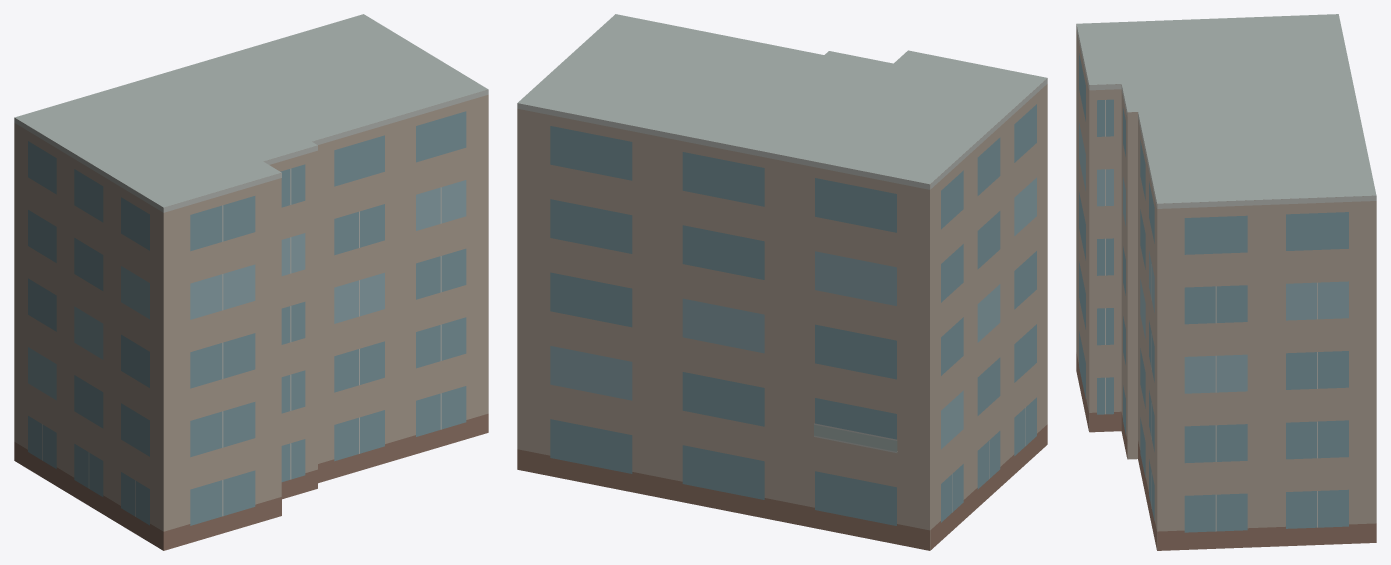
File: survey-upis-32758975.glb
3 renders of one model, left to right at view 1: azimuth 30°, elevation 25°; view 2: azimuth 150°, elevation 25°; view 3: azimuth 270°, elevation 25°, orthographic. The views are drawn at different scales.
Visible parts, largest first — view 1: survey-upis-32758975.tmp; view 2: survey-upis-32758975.tmp; view 3: survey-upis-32758975.tmp.
Part boxes in pixels (<box>): survey-upis-32758975.tmp: <box>14,14,488,550</box>; survey-upis-32758975.tmp: <box>517,14,1047,550</box>; survey-upis-32758975.tmp: <box>1076,14,1376,550</box>.
Size of the model in its own units: 18.7 by 15.95 by 12.51.
